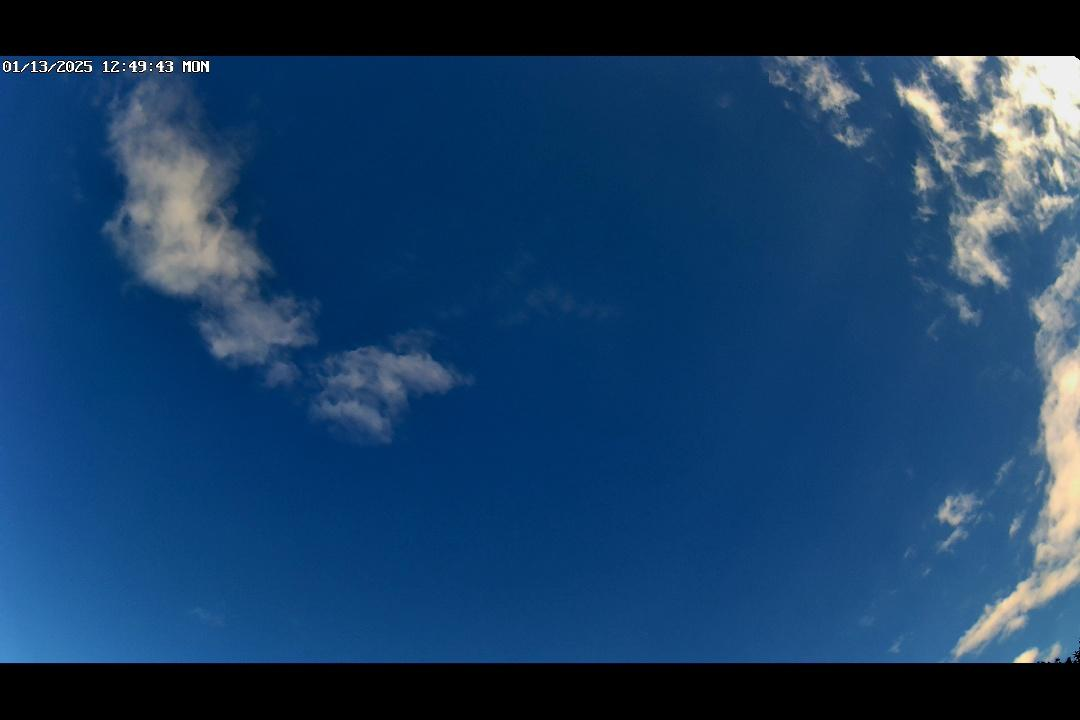WildLife: (1038, 83, 1060, 103)
